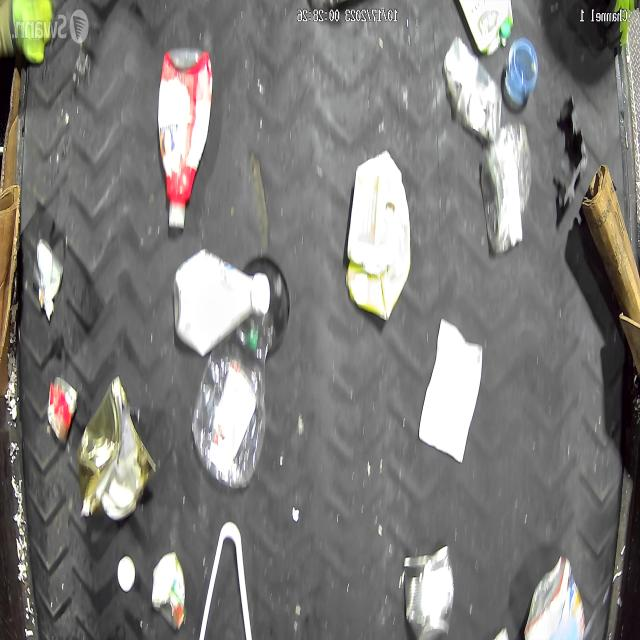can: (76, 376, 156, 522), (404, 542, 454, 640), (45, 373, 77, 442)
non_white_jug: (345, 150, 411, 320)
